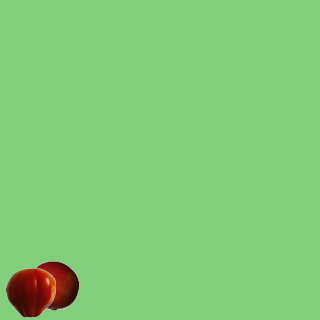Apple Braeburn: (28, 260, 78, 310)
Tomato 1: (5, 267, 55, 317)
